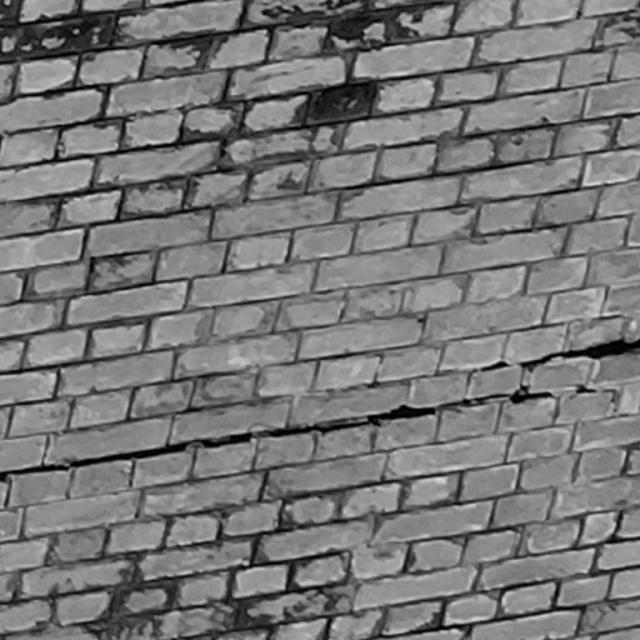crack: (1, 337, 639, 483)
